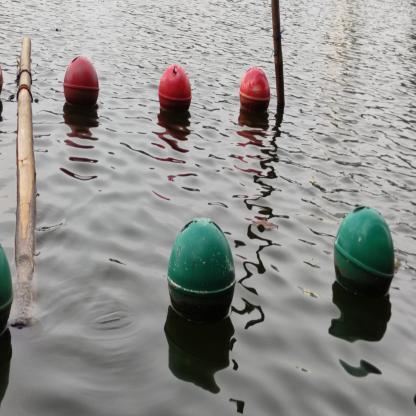green_buoy: (166, 212, 236, 331), (332, 204, 397, 304), (0, 236, 15, 341)
red_buoy: (62, 54, 100, 112), (156, 61, 194, 114), (237, 65, 272, 117)
